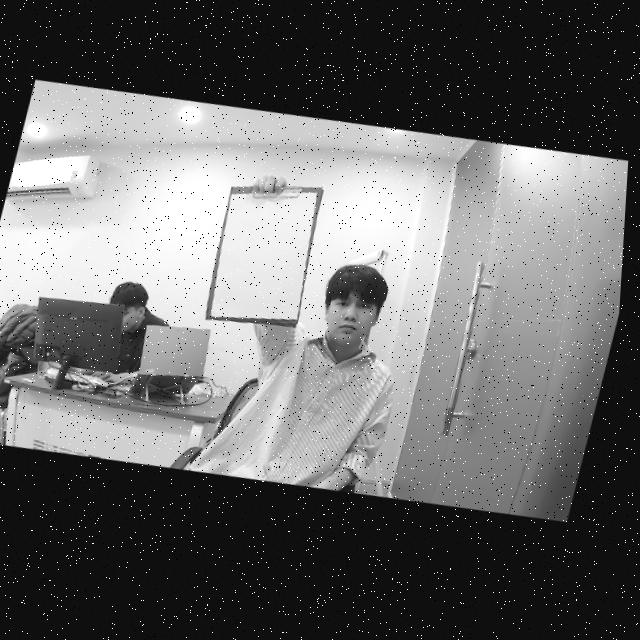face: (313, 261, 409, 352), (103, 278, 171, 348)
